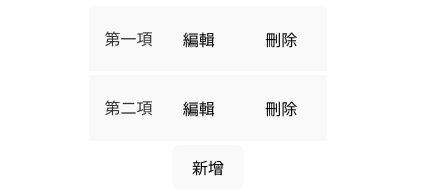
Test: EditableList › can cancel editing
Click the button with test id "editable-item-edit-btn" next to "第一項" at x=199, y=39, box [163,16,235,61]
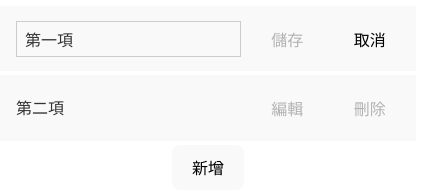
Replace the text in the field with placeholder "請輸入內容..." with "取消測試" at x=129, y=39, box [16,21,241,57]
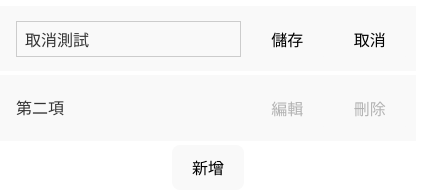
Click the button with test id "editable-item-cancel-btn" at x=370, y=39, box [334,16,406,61]
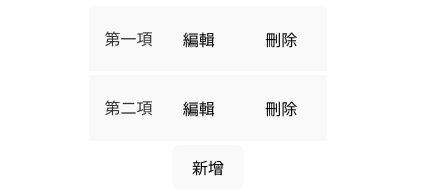
Now the text with test id "editable-item-text-1" reads "第一項", box [105,28,153,50]
